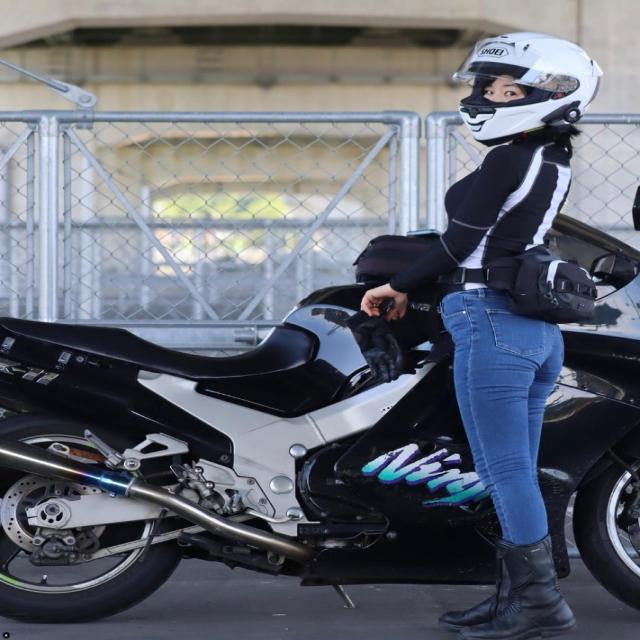helmet: (447, 27, 607, 150)
